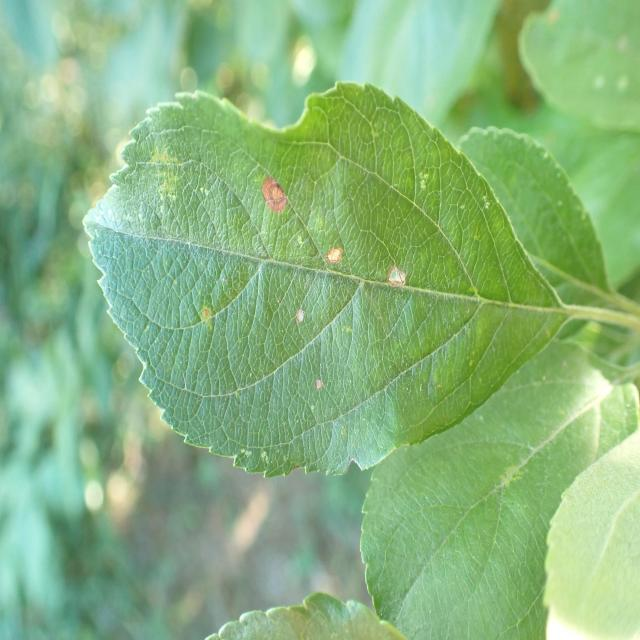frog-eye-leaf-spot: (81, 79, 564, 480)
